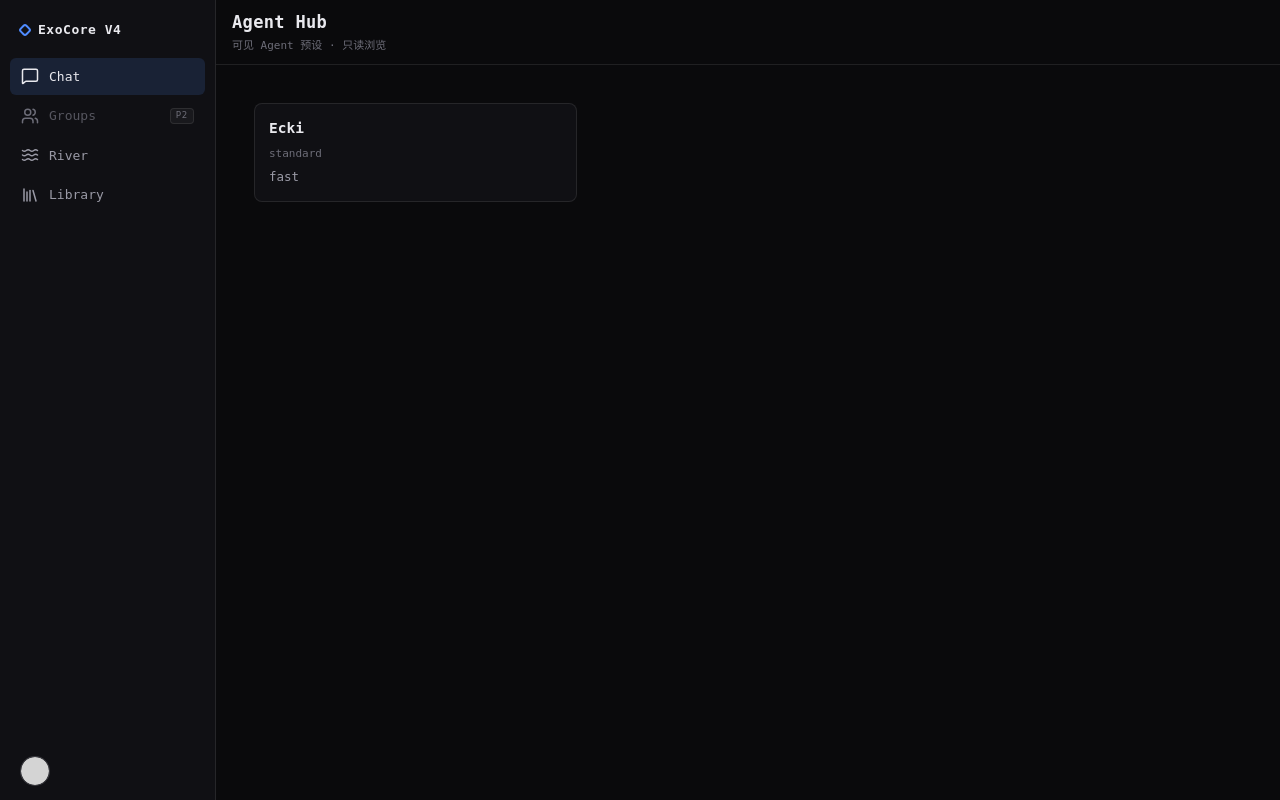
Scenario: Agent Hub (P2A Stage A) › card click navigates to the canonical Profile implementation
Click the link "Ecki standard fast": (286, 128) [254, 103, 577, 202]
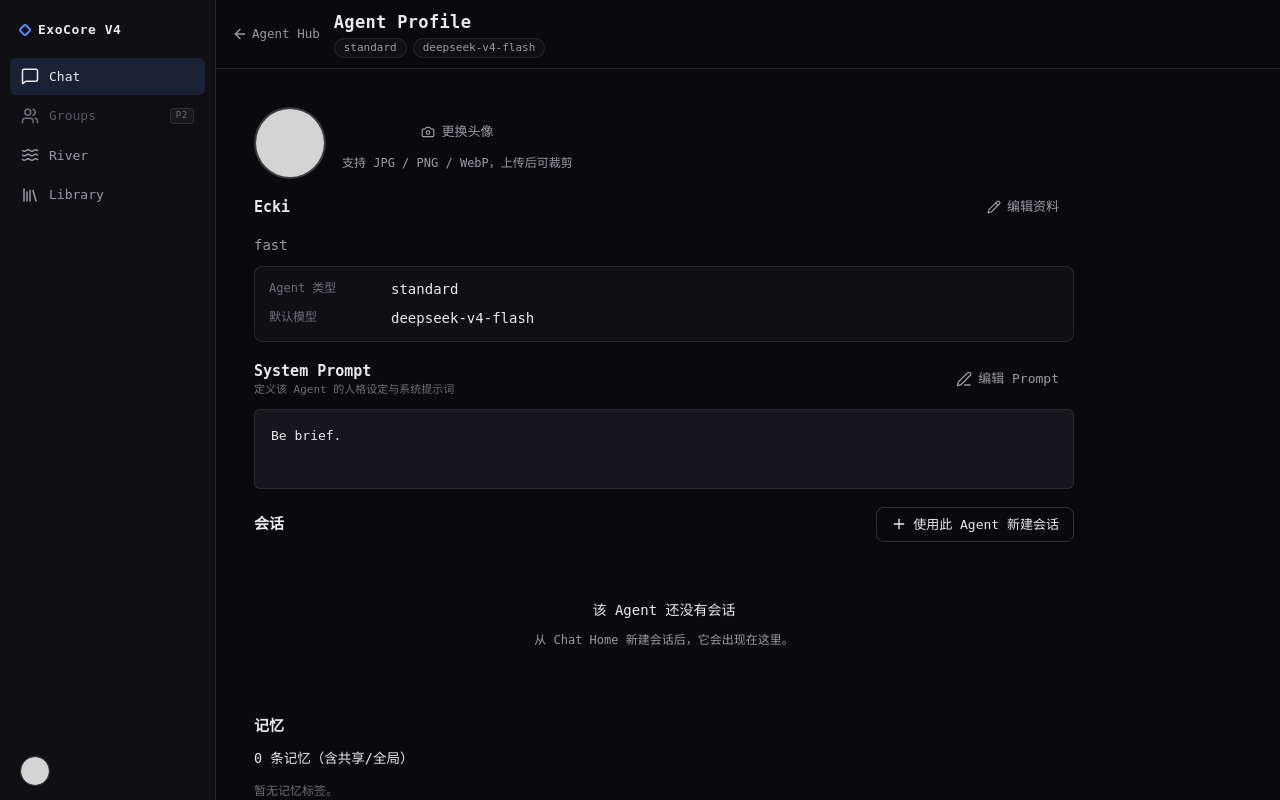
Now the heading "Agent Profile" is shown, box [334, 12, 471, 32]
Now the text "Be brief." is shown, box [271, 428, 342, 442]
